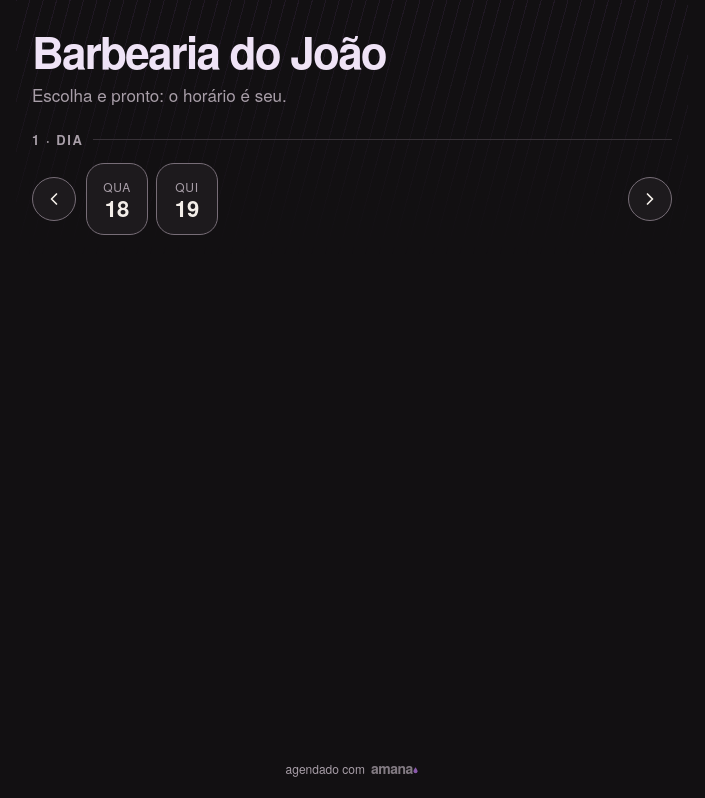
Test: página pública de agendamento › resumo do horário escolhido aparece acima do formulário
Click the button "qua 18" at point(117, 199), box [86,163,148,235]
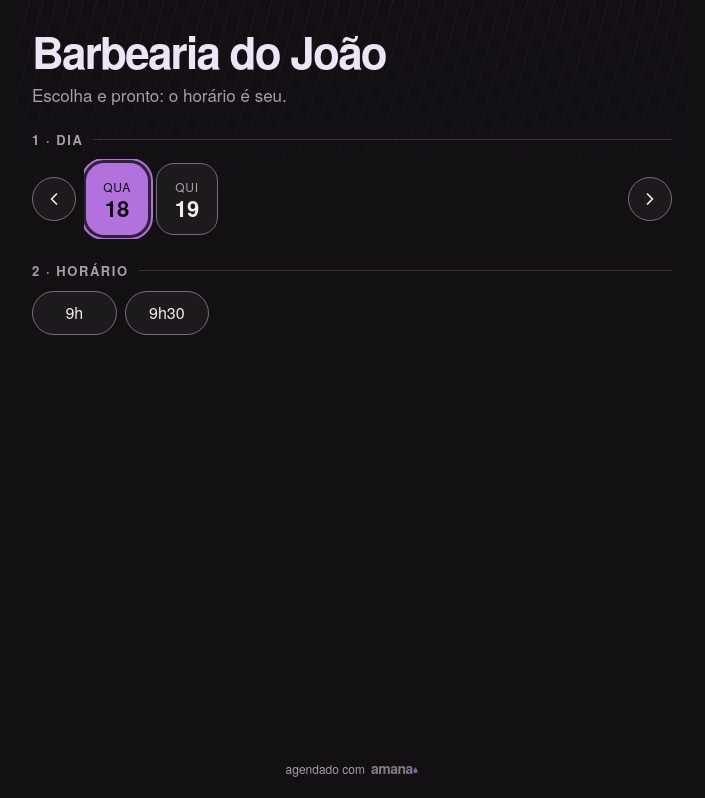
Click the button "9h" at point(74, 313), box [32,291,117,335]
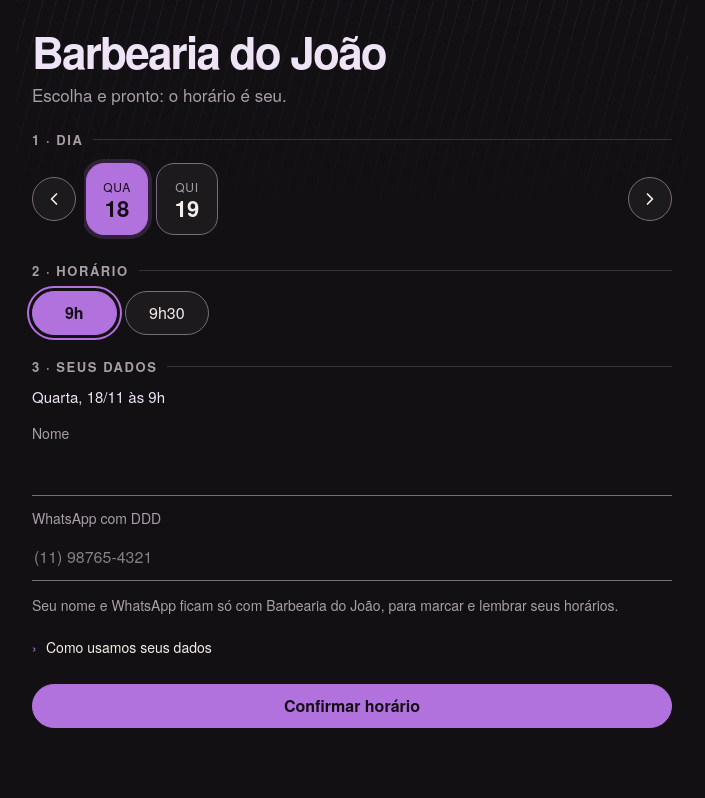
Result: the text "Quarta, 18/11 às 9h" is shown at [32,386,165,407]
